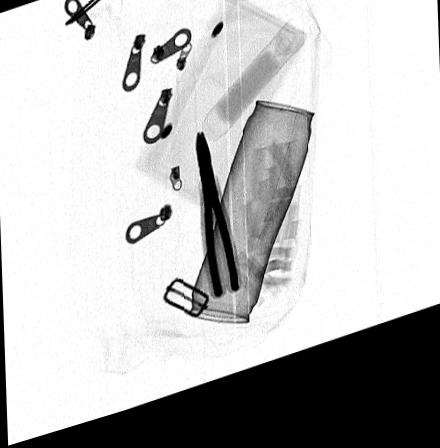Pliers: (195, 141, 241, 309)
